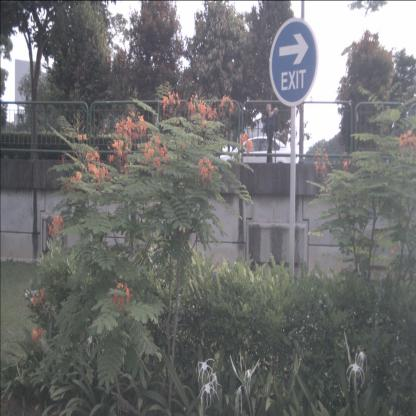human-pedestrian-adult: (341, 90, 359, 167), (264, 88, 279, 165)
vehicle-car: (219, 136, 293, 174)
